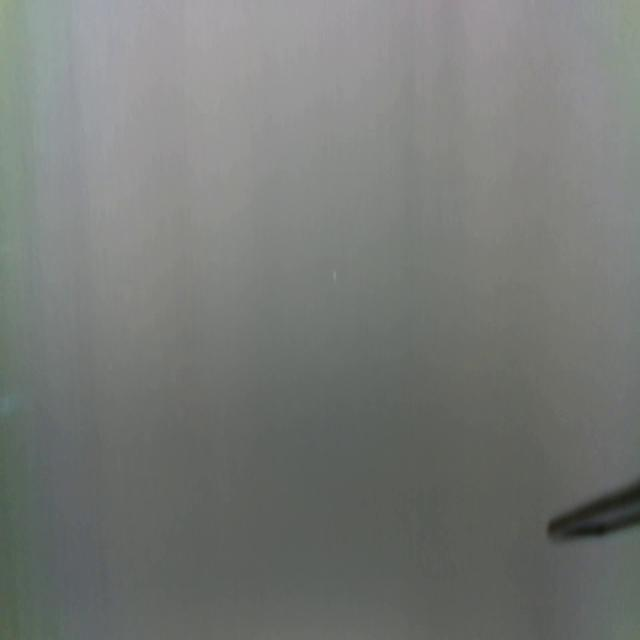hole: (332, 266, 339, 284)
